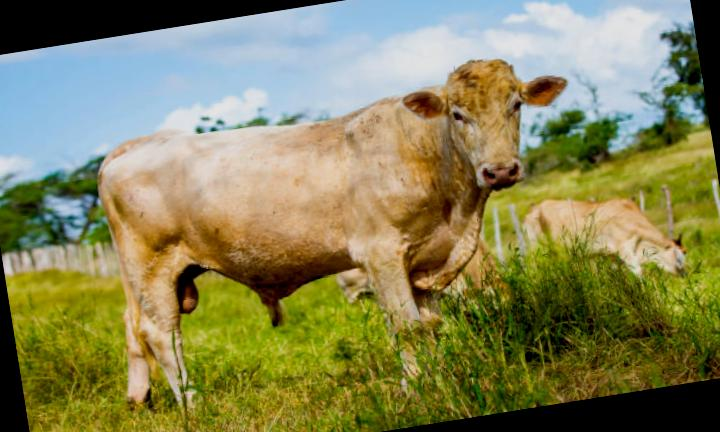Charolais: (99, 58, 567, 402)
